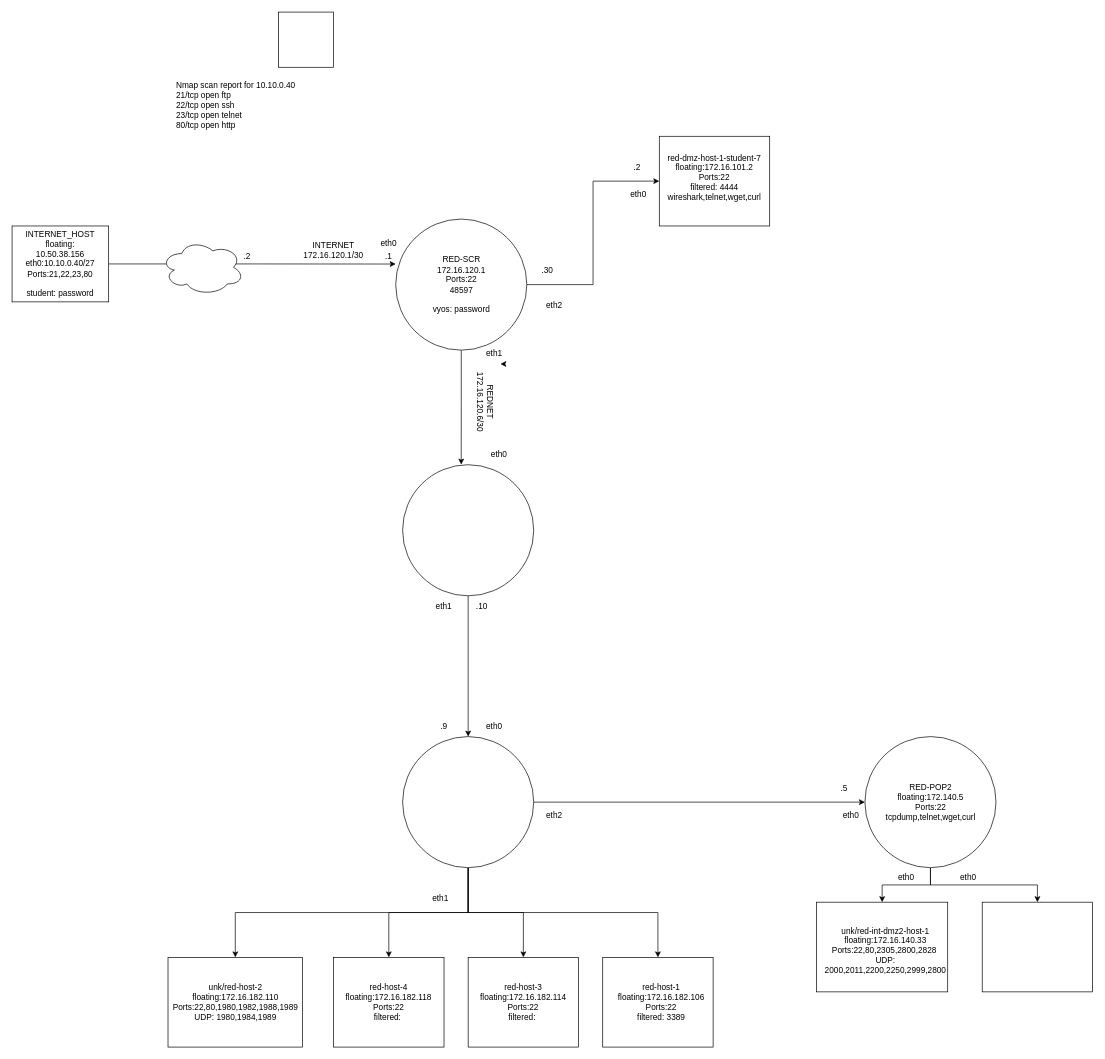
Some shapes in this 1105 by 1059 pixel diagram are drawn without their labels. The shapes that lost their labels are listed below. From the top down, each one's centre as x and y in pixels, then its label:
At point 306,39: "Hostname IP(s) Ports Tools".
At point 468,530: "RED-IPS floating:172.16.120.5 Ports:22 tcpdump,telnet,wget,curl".
At point 468,802: "RED-POP floating:172.16.120.9 Ports:22 tcpdump,telnet,wget,curl".
At point 1037,946: "red-int-dmz2-host-2 floating:172.16.140.35 Ports:22 filtered: 5150".
